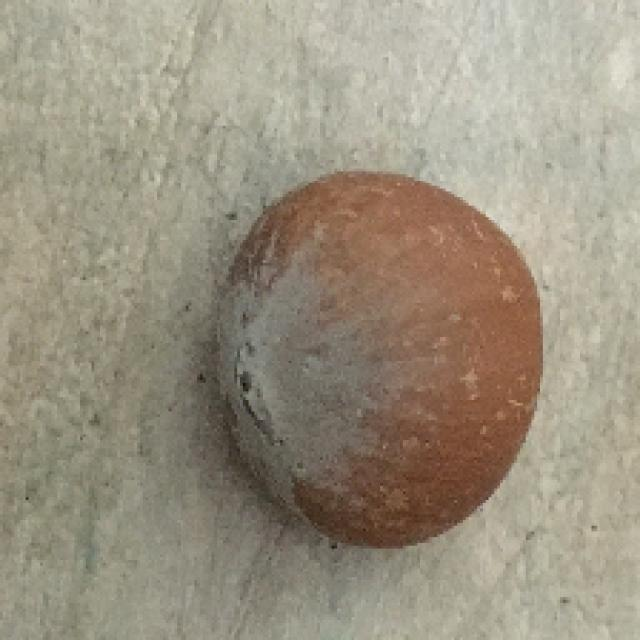qualityHazelnut: (218, 168, 550, 551)
